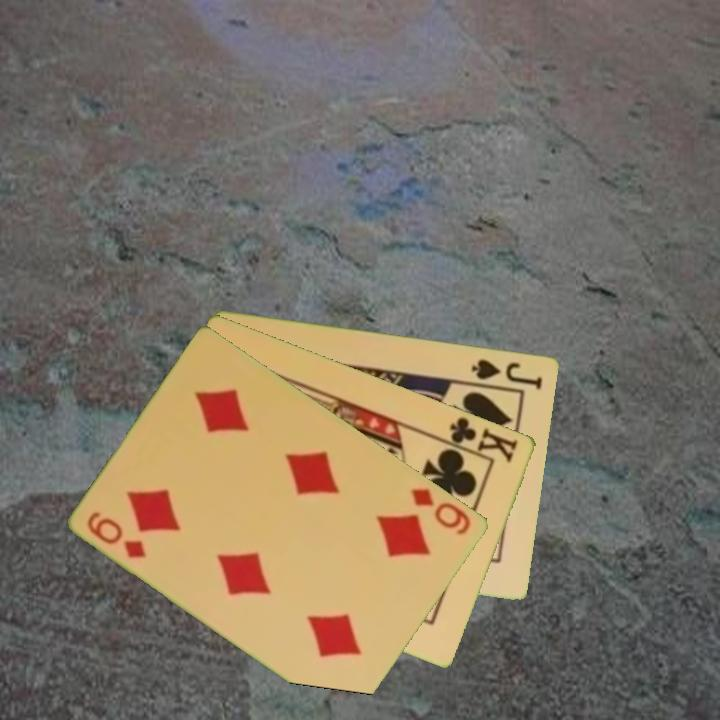6d: (407, 484, 475, 538), (84, 507, 150, 562)
Js: (468, 355, 546, 392)
Kc: (438, 412, 521, 466)
